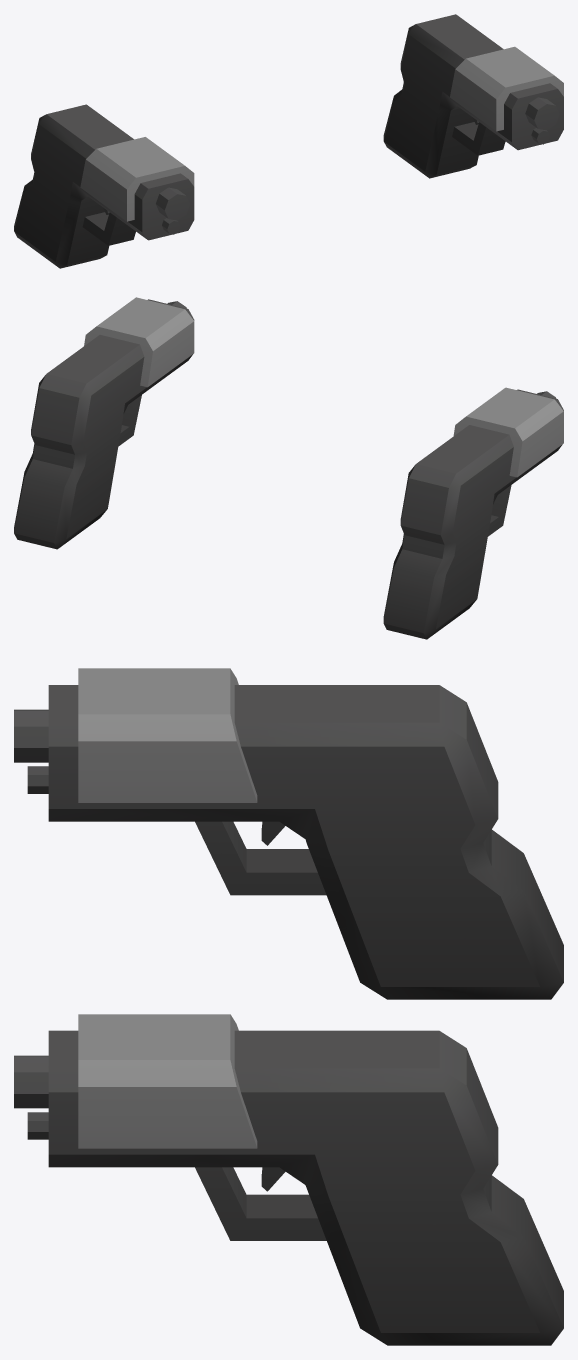
Rendered from Capsule_Weapon_Pistol_Double_01.fbx.
3 views of the same model, one above another, from view 1: azimuth 30°, elevation 25°; view 2: azimuth 150°, elevation 25°; view 3: azimuth 270°, elevation 25° (orthographic). The views are drawn at different scales.
Parts seen in each view (by area): view 1: Capsule_Weapon_Pistol_Double_01; view 2: Capsule_Weapon_Pistol_Double_01; view 3: Capsule_Weapon_Pistol_Double_01.
Boxes of the visible parts, bbox=[...] form: Capsule_Weapon_Pistol_Double_01: bbox=[14, 14, 563, 268]; Capsule_Weapon_Pistol_Double_01: bbox=[14, 297, 563, 639]; Capsule_Weapon_Pistol_Double_01: bbox=[14, 668, 563, 1345].
Size of the model in its own units: 133 by 43.85 by 75.47.
